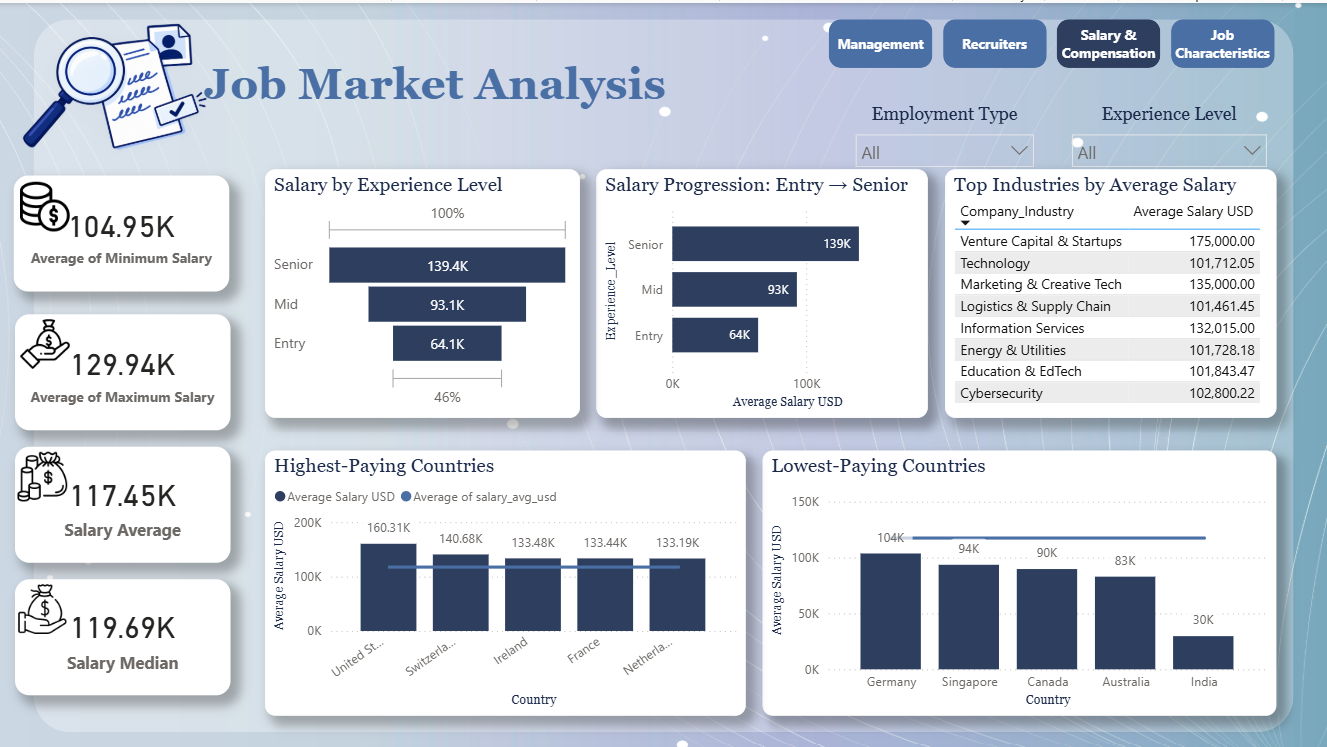

This screenshot's page, from the dashboard's own definition file:
{"tool":"powerbi","page":{"name":"Salary & Compensation","canvas":[1280,720],"ordinal":2},"visuals":[{"type":"shape","box":[32,16,1216,688],"z":0},{"type":"image","box":[16,0,192,160],"z":1000},{"type":"textbox","box":[192,48,480,64],"z":2000},{"type":"slicer","title":"Experience Level","fields":{"Values":["dim_job_requirement.Experience_Level"]},"box":[1024,96,208,64],"z":3000},{"type":"slicer","title":"Employment Type","fields":{"Values":["dim_job_info.Employment_Type"]},"box":[816,96,192,64],"z":4000},{"type":"pageNavigator","box":[800,16,432,48],"z":5000},{"type":"card","fields":{"Values":["Avg(dim_compensation.salary_min_usd)"]},"box":[13.4,166.7,208,112],"z":6000},{"type":"card","fields":{"Values":["Avg(dim_compensation.salary_max_usd)"]},"box":[14.3,300.6,208,112],"z":7000},{"type":"card","fields":{"Values":["Avg(dim_compensation.salary_avg_usd)"]},"box":[14.3,428.6,208,112],"z":8000},{"type":"card","fields":{"Values":["Median(dim_compensation.salary_avg_usd)"]},"box":[14.3,556.6,208,112],"z":9000},{"type":"image","box":[19.1,173,48,48],"z":10000},{"type":"image","box":[19.8,305.7,48,48],"z":11000},{"type":"image","box":[16.4,432.9,48,48],"z":12000},{"type":"image","box":[16.4,560.9,48,48],"z":13000},{"type":"lineStackedColumnComboChart","title":"Lowest-Paying Countries","fields":{"Category":["dim_job_info.Country"],"Y":["dim_compensation.Average Salary USD"],"Y2":["Avg(dim_compensation.salary_avg_usd)"]},"box":[736,432,496,256],"z":14000},{"type":"barChart","title":"Salary Progression: Entry → Senior","fields":{"Category":["dim_job_requirement.Experience_Level"],"Y":["dim_compensation.Average Salary USD"]},"box":[576,160,320,240],"z":15000},{"type":"lineStackedColumnComboChart","title":"Highest-Paying Countries","fields":{"Y":["dim_compensation.Average Salary USD"],"Y2":["Avg(dim_compensation.salary_avg_usd)"],"Category":["dim_job_info.Country"]},"box":[256,432,464,256],"z":16000},{"type":"funnel","title":"Salary by Experience Level","fields":{"Y":["dim_compensation.Average Salary USD"],"Category":["dim_job_requirement.Experience_Level"]},"box":[256,160,304,240],"z":17000},{"type":"tableEx","title":"Top Industries by Average Salary","fields":{"Values":["dim_company_info.Company_Industry","dim_compensation.Average Salary USD"]},"box":[912,160,320,240],"z":18000}]}

Visuals, with their boxes in screenshot pixels (x1, y1, x2, y2), scaled from the page's 1280x720 canvas onto the 1327x747 screenshot:
shape: 33:17:1294:730
image: 17:0:216:166
textbox: 199:50:697:116
"Experience Level" slicer: 1062:100:1277:166
"Employment Type" slicer: 846:100:1045:166
pageNavigator: 829:17:1277:66
card - Avg(dim_compensation.salary_min_usd): 14:173:230:289
card - Avg(dim_compensation.salary_max_usd): 15:312:230:428
card - Avg(dim_compensation.salary_avg_usd): 15:445:230:561
card - Median(dim_compensation.salary_avg_usd): 15:577:230:694
image: 20:179:70:229
image: 21:317:70:367
image: 17:449:67:499
image: 17:582:67:632
"Lowest-Paying Countries" lineStackedColumnComboChart: 763:448:1277:714
"Salary Progression: Entry → Senior" barChart: 597:166:929:415
"Highest-Paying Countries" lineStackedColumnComboChart: 265:448:746:714
"Salary by Experience Level" funnel: 265:166:581:415
"Top Industries by Average Salary" tableEx: 945:166:1277:415
